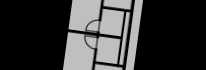door: (121, 0, 138, 68), (115, 10, 127, 66), (91, 59, 124, 70), (81, 34, 100, 51), (84, 18, 102, 34), (89, 49, 98, 70)
